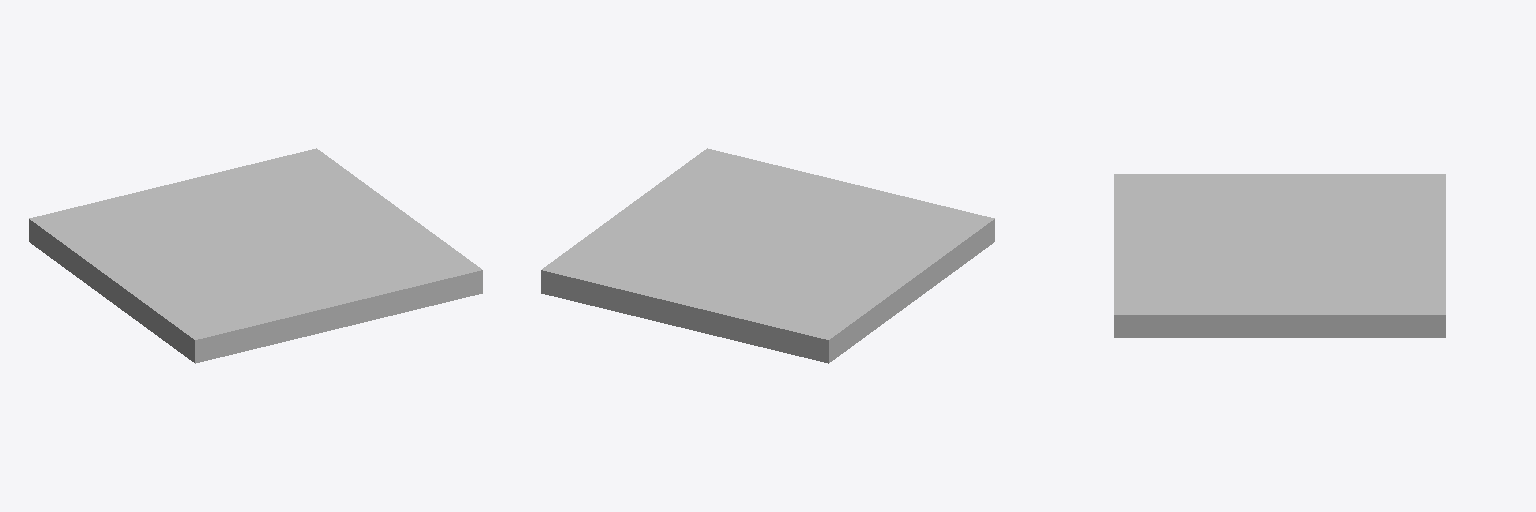
File: zom_dah_window_4x4m_b.obj
3 renders of one model, left to right at view 1: azimuth 30°, elevation 25°; view 2: azimuth 150°, elevation 25°; view 3: azimuth 270°, elevation 25°, orthographic.
Parts seen in each view (by area): view 1: co_culling, g_trim, c_box_002; view 2: co_culling, c_box_004, g_trim, c_box_002; view 3: co_culling, g_trim, c_box_004.
Boxes of the visible parts, box(x1,y1,x2,y2) form: co_culling: box(29, 148, 482, 363); g_trim: box(96, 183, 416, 305); c_box_002: box(29, 222, 230, 360); co_culling: box(541, 148, 994, 363); c_box_004: box(541, 273, 869, 360); g_trim: box(607, 183, 927, 305); c_box_002: box(797, 223, 994, 360); co_culling: box(1114, 174, 1445, 337); g_trim: box(1189, 188, 1370, 300); c_box_004: box(1363, 317, 1445, 335).
Size of the model in its own units: 400 by 31 by 400.